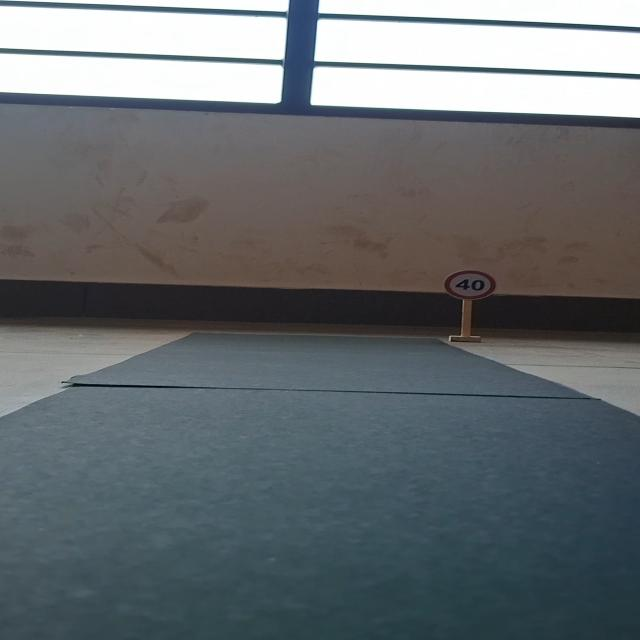Speed40: (439, 266, 503, 300)
